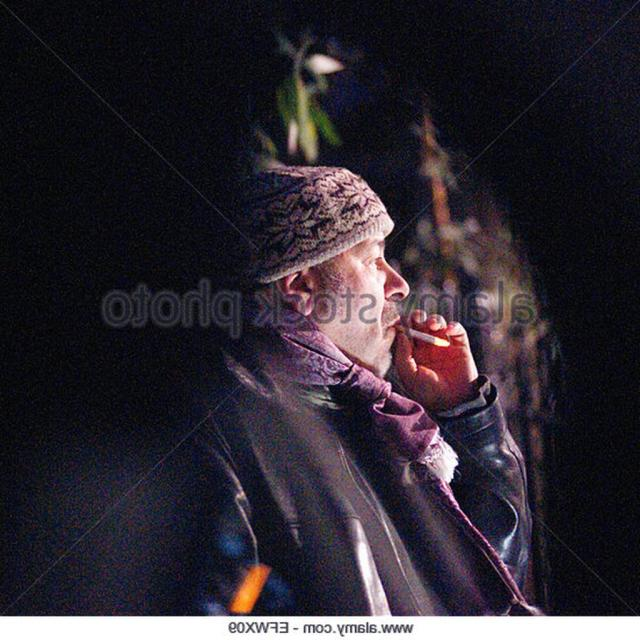smoking: (220, 151, 484, 397)
